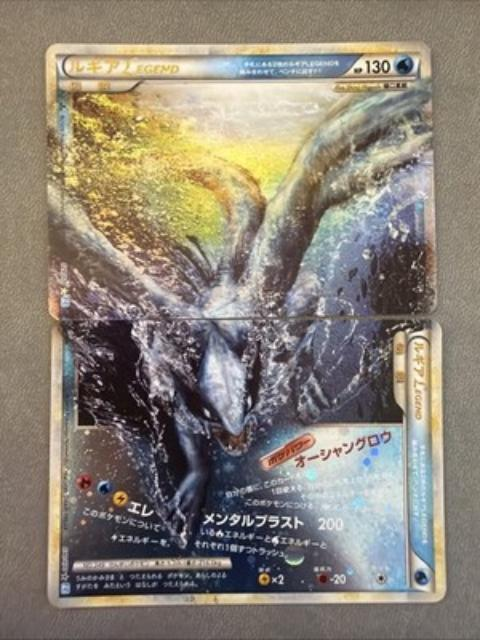Card: (43, 316, 450, 614), (42, 35, 441, 324)
Name: (63, 53, 184, 78), (406, 333, 432, 429)
